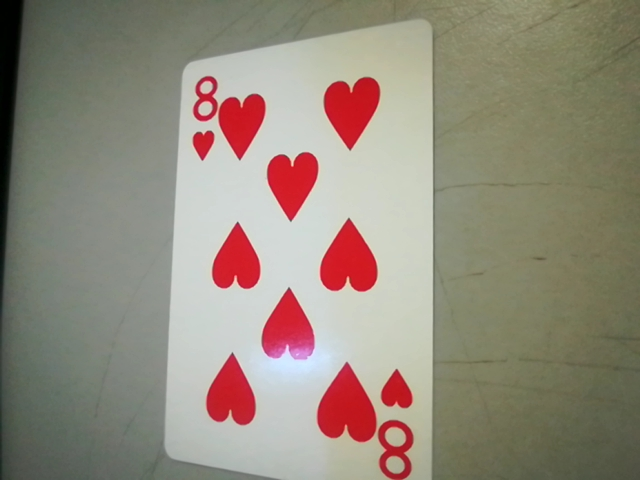hx 8: (372, 366, 429, 480), (177, 70, 222, 166)
